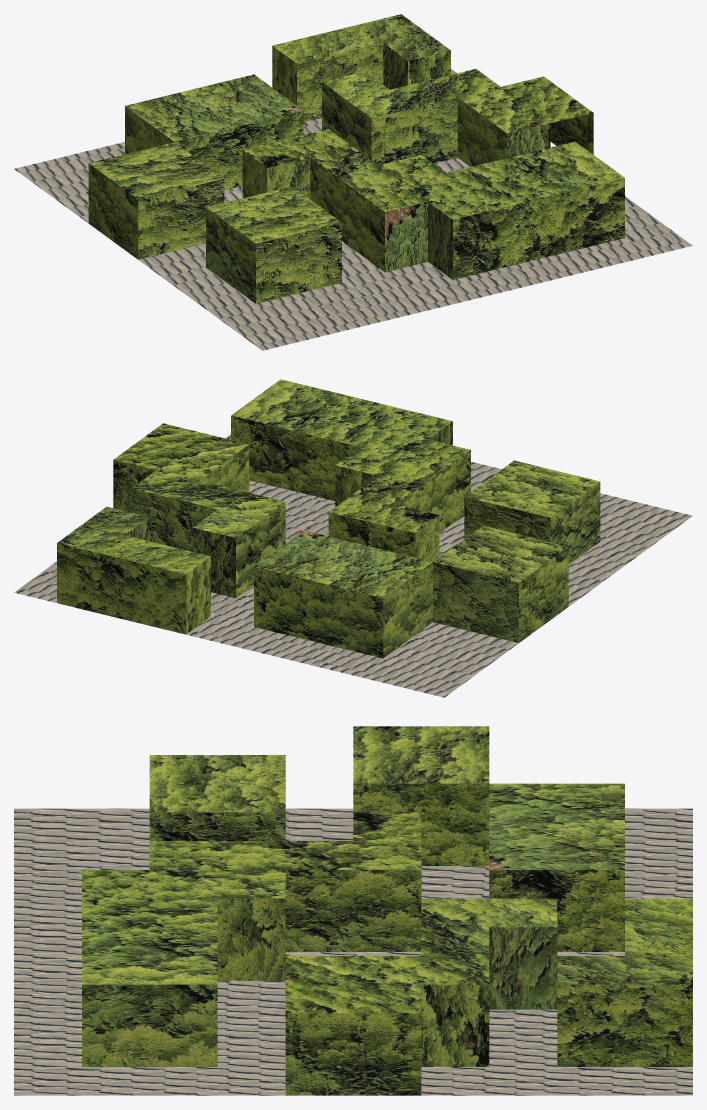
The model's file is first.fbx.
The picture shows the model from 3 angles, top to bottom: view 1: azimuth 30°, elevation 25°; view 2: azimuth 150°, elevation 25°; view 3: azimuth 270°, elevation 25°; orthographic projection. The views are drawn at different scales.
Visible parts, largest first — view 1: Walls, Roof, Floor; view 2: Walls, Roof, Floor; view 3: Walls, Roof, Floor.
Boxes of the visible parts, x1,y1,x2,y2 form: Walls: (88, 43, 624, 303); Roof: (89, 14, 624, 243); Floor: (14, 69, 692, 350); Walls: (57, 415, 600, 658); Roof: (57, 379, 599, 597); Floor: (14, 434, 692, 697); Walls: (82, 783, 692, 1095); Roof: (82, 726, 692, 1013); Floor: (14, 808, 692, 1095).
Size of the model in its own units: 1600 by 214 by 1600.
